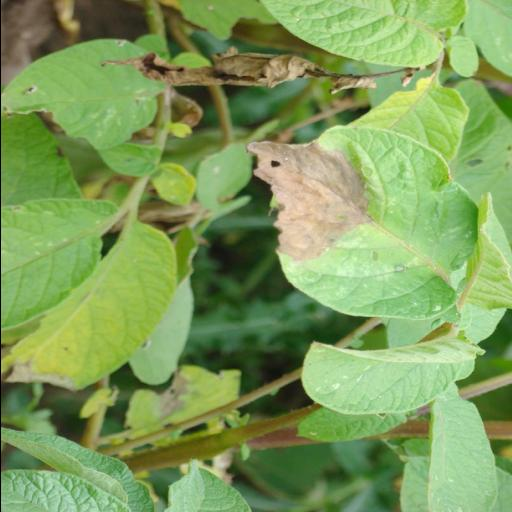disease_tomato: (248, 126, 478, 322)
